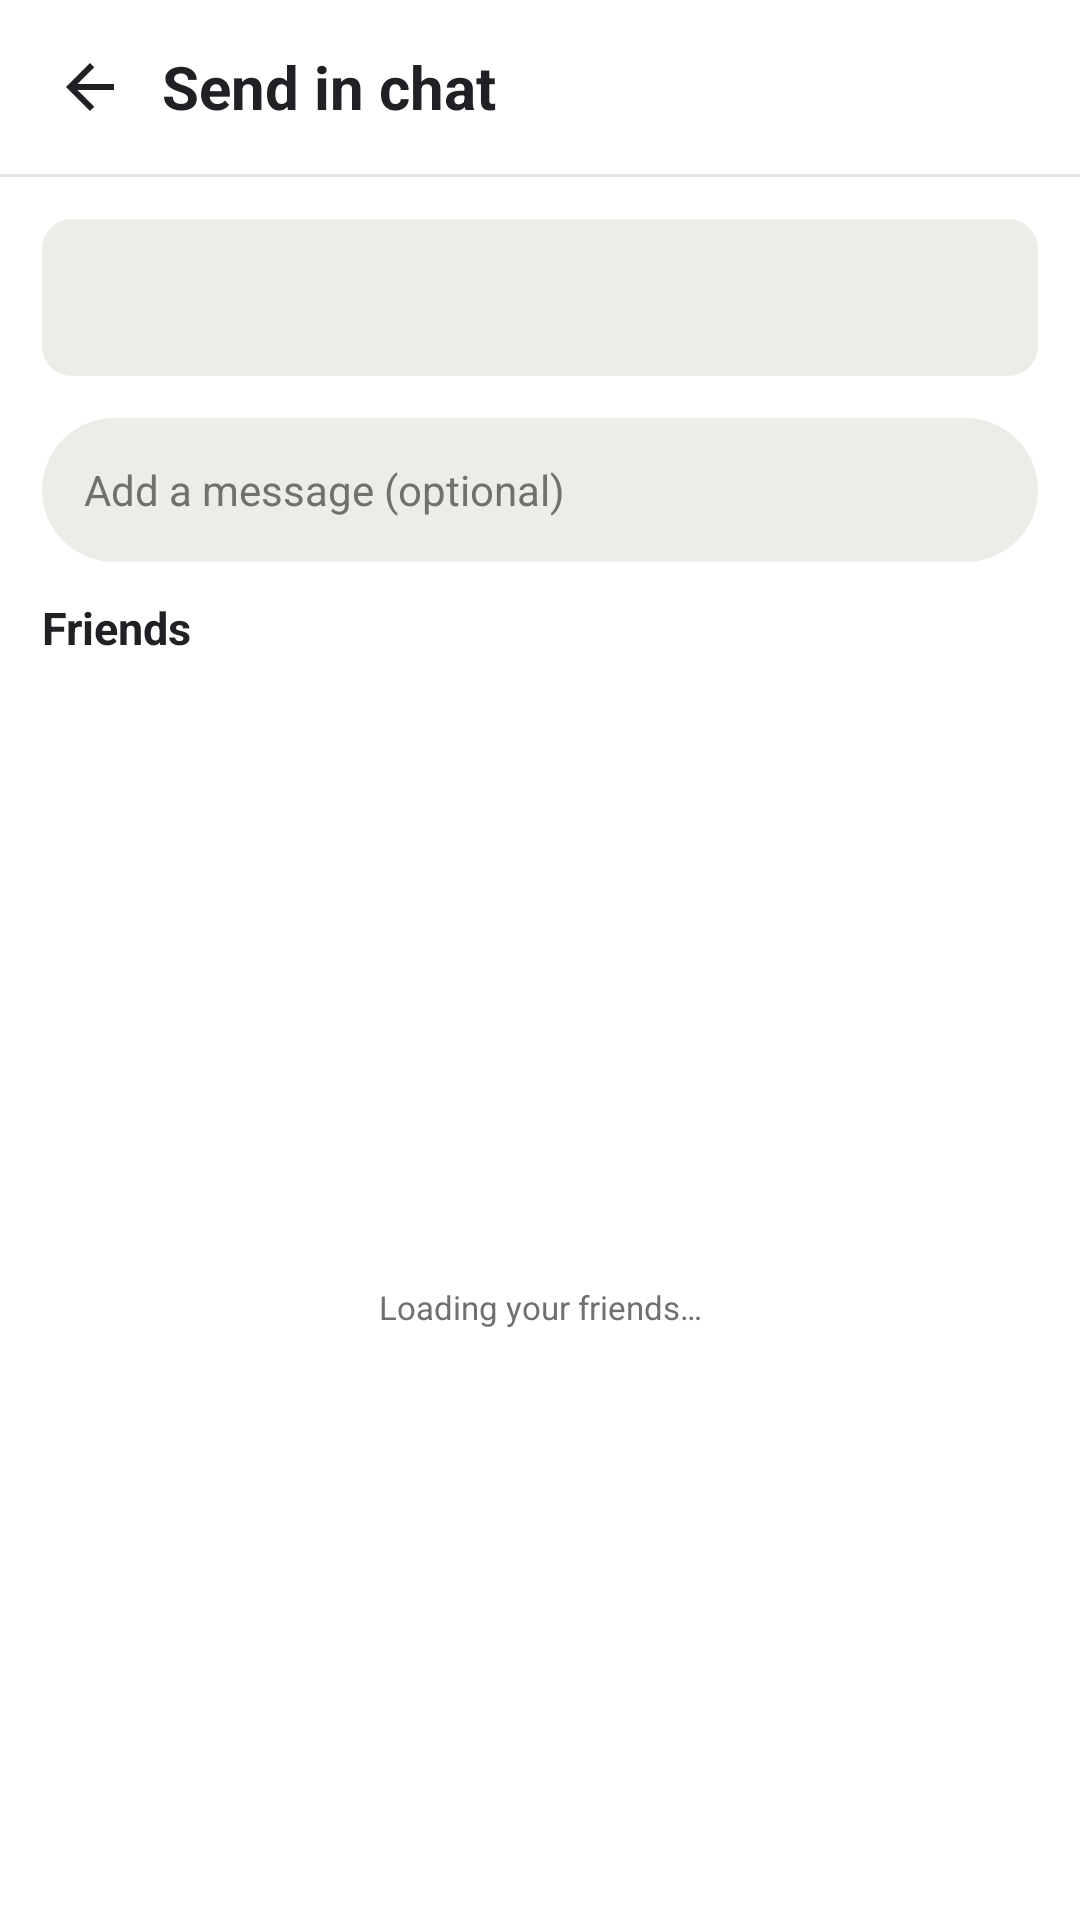

Icons on this 1080×1920 Android screen, each with the point to tap as (x,y):
Back: (90,87)
